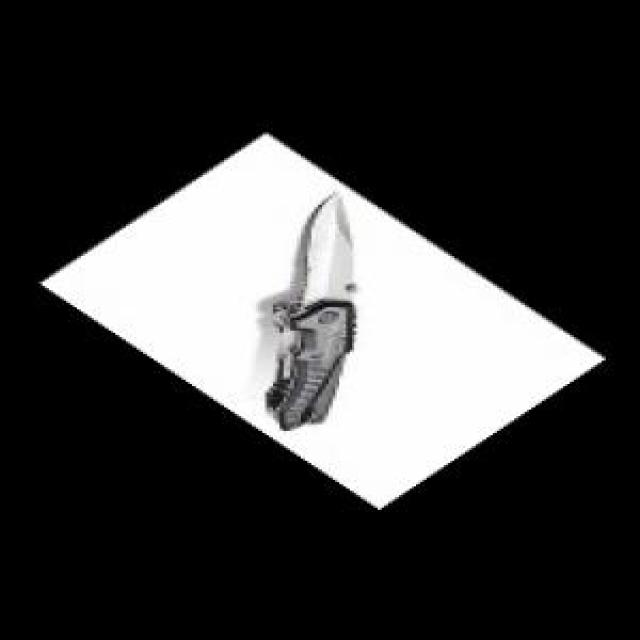knife: (258, 188, 373, 439)
